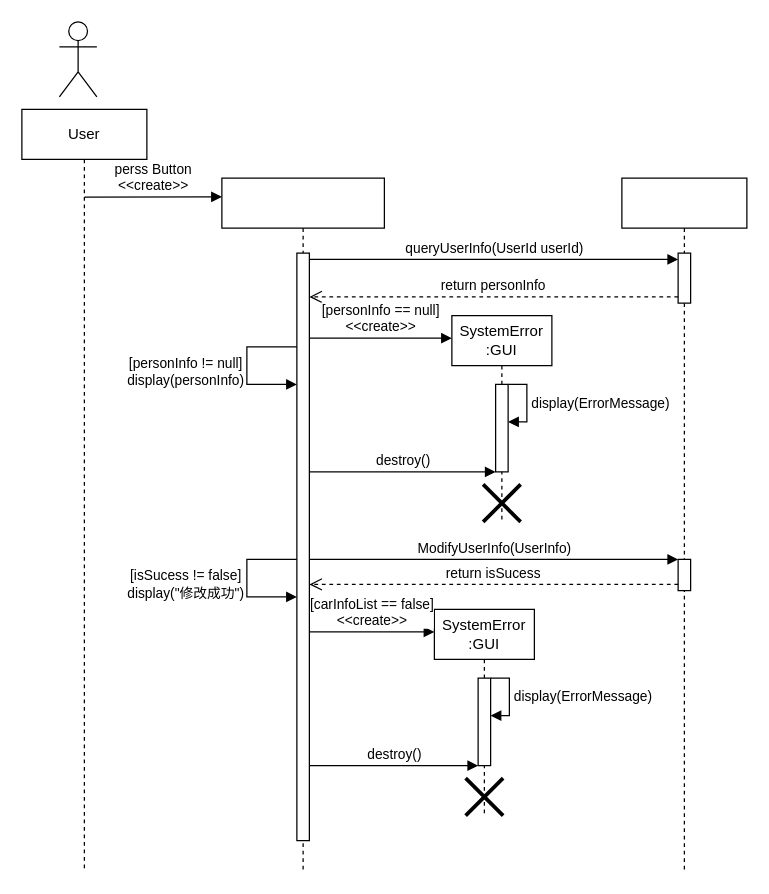
Image size: 769x894. Some labels were removed from this diagram. Here are the shapes that lost their labels. From the top down, the box of each, then its label:
(221, 177, 384, 872): PersonInfo :GUI
(621, 177, 747, 872): :System
